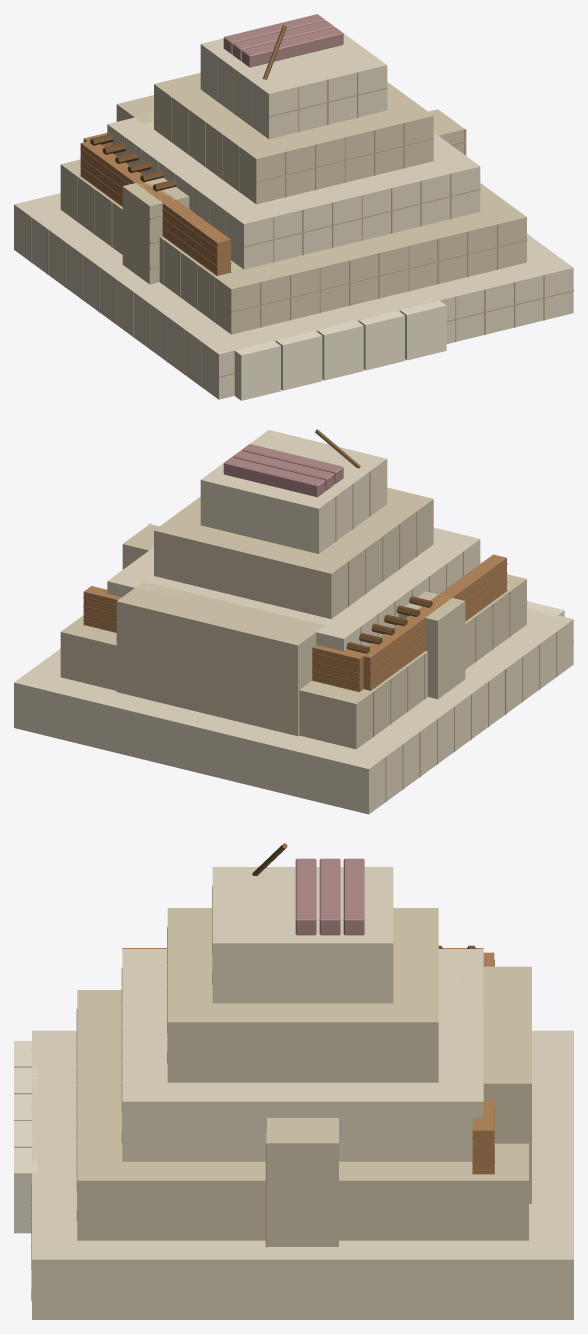
Rendered from giza.glb.
3 views of the same model, one above another, from view 1: azimuth 30°, elevation 25°; view 2: azimuth 150°, elevation 25°; view 3: azimuth 270°, elevation 25° (orthographic). The views are drawn at different scales.
Visible parts, largest first — view 1: pyramid_unfinished, house_interior, wall_crow, quarry_face; view 2: pyramid_unfinished, quarry_face, house_interior, wall_crow; view 3: pyramid_unfinished, wall_crow, quarry_face, house_interior.
Boxes of the visible parts, x1,y1,x2,y2 form: pyramid_unfinished: (14, 14, 573, 400); house_interior: (80, 133, 231, 275); wall_crow: (122, 109, 466, 284); quarry_face: (116, 95, 153, 123); pyramid_unfinished: (14, 429, 573, 814); quarry_face: (116, 581, 324, 736); house_interior: (83, 554, 507, 692); wall_crow: (122, 523, 465, 699); pyramid_unfinished: (14, 843, 573, 1319); wall_crow: (265, 1118, 338, 1247); quarry_face: (460, 966, 531, 1203); house_interior: (122, 945, 494, 1174).
Size of the model in its own units: 9.01 by 6.64 by 9.3.
